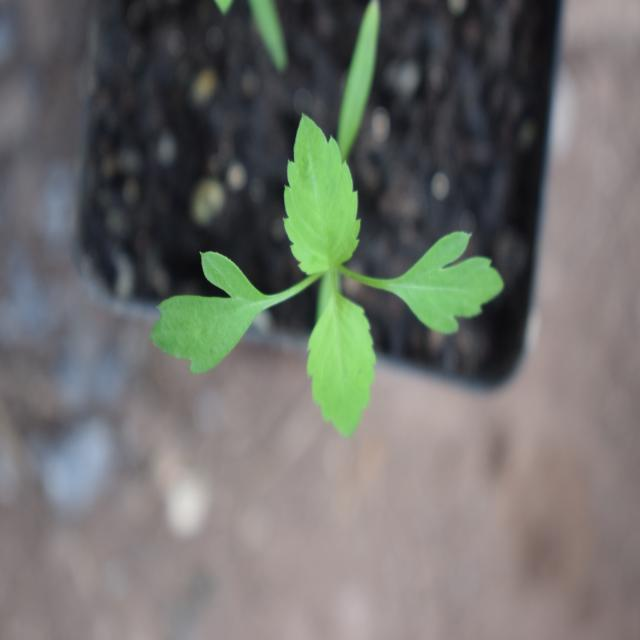Bidens pilosa: (142, 108, 520, 439)
